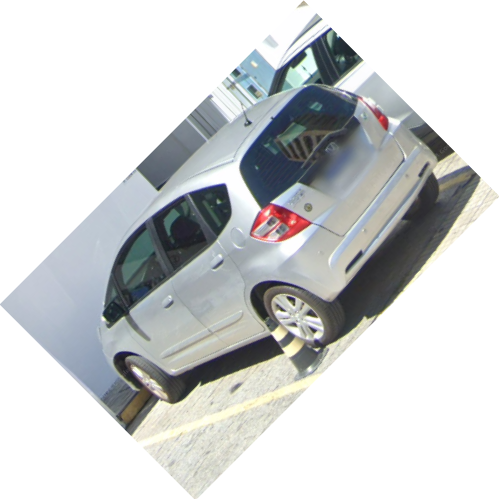car: (97, 82, 440, 406)
